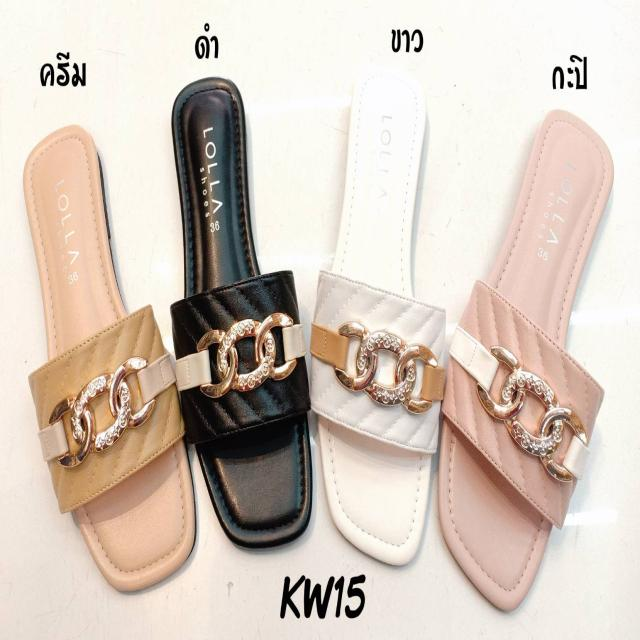black: (173, 78, 313, 546)
cream: (26, 125, 194, 594)
kapi: (440, 109, 612, 613)
white: (314, 73, 441, 559)
